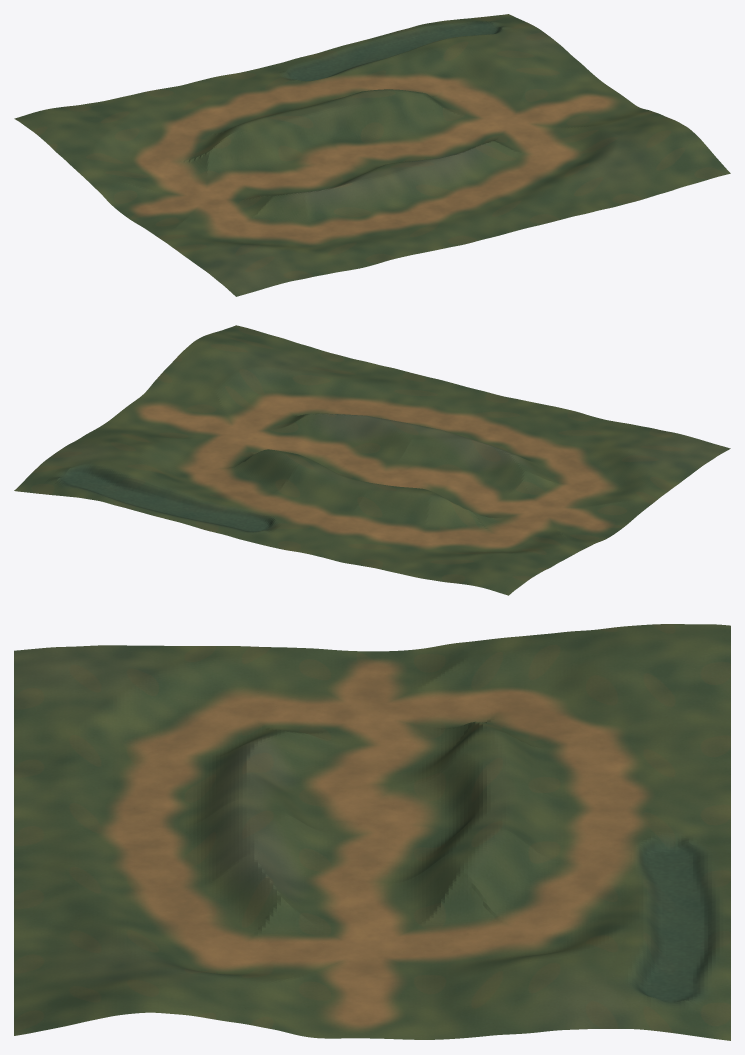
Rendered from SOL07_terrain_sculpte_36x28.glb.
The picture shows the model from 3 angles, top to bottom: view 1: azimuth 30°, elevation 25°; view 2: azimuth 150°, elevation 25°; view 3: azimuth 270°, elevation 25°; orthographic projection. The views are drawn at different scales.
Parts seen in each view (by area): view 1: SOL061_terrain_ravin_36x28.glb; view 2: SOL061_terrain_ravin_36x28.glb; view 3: SOL061_terrain_ravin_36x28.glb.
Part boxes in pixels (x1=…): SOL061_terrain_ravin_36x28.glb: x1=14, y1=14, x2=730, y2=296; SOL061_terrain_ravin_36x28.glb: x1=14, y1=325, x2=730, y2=595; SOL061_terrain_ravin_36x28.glb: x1=14, y1=624, x2=730, y2=1040.
Size of the model in its own units: 36 by 2.11 by 28.
Materials: 1 (1 with a texture image).
